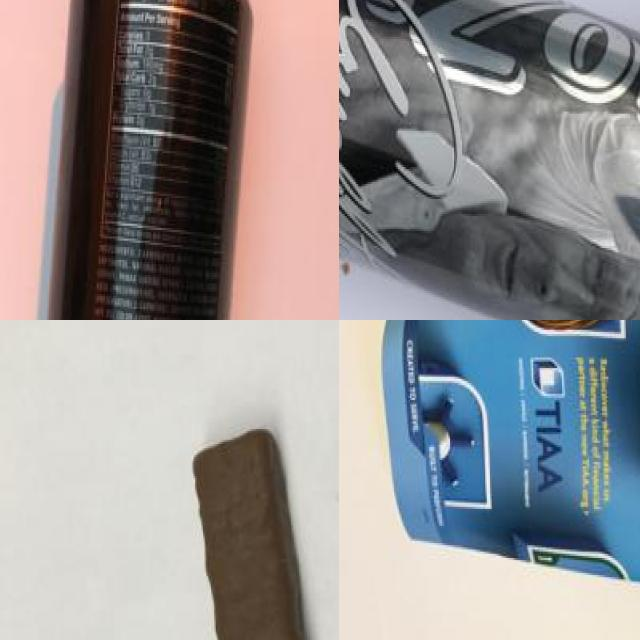compost: (166, 413, 339, 640)
paper: (382, 320, 640, 610)
plastic: (342, 0, 640, 320), (37, 0, 240, 320)
